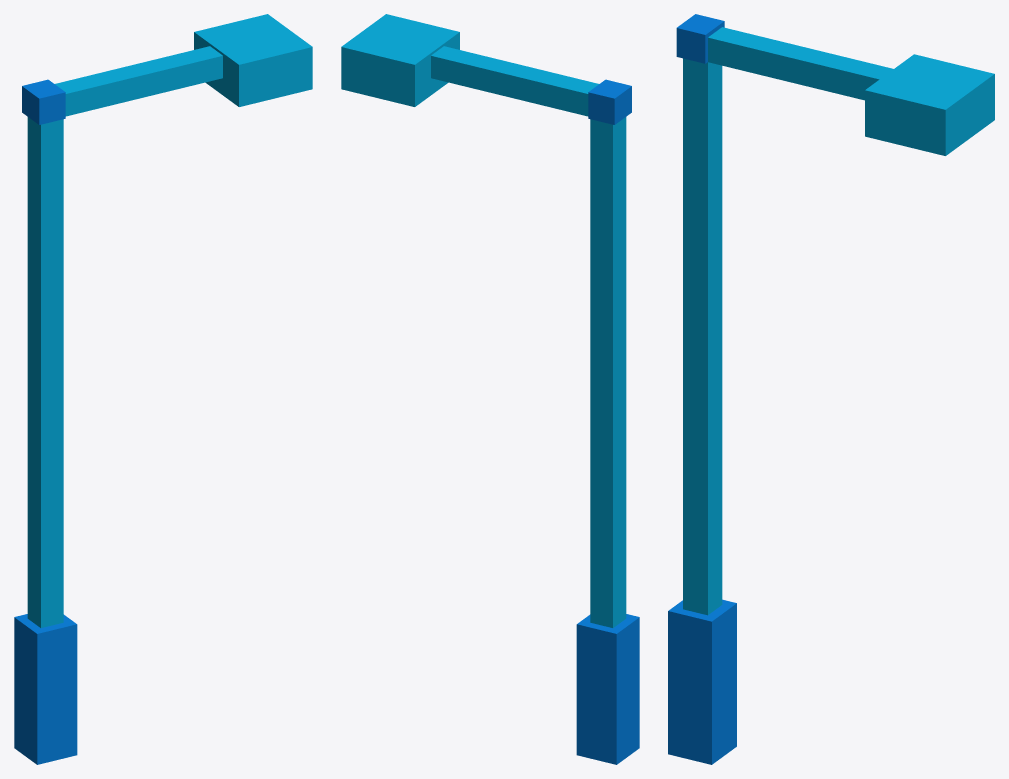
File: streetLight.fbx
The picture shows the model from 3 angles, left to right: view 1: azimuth 30°, elevation 25°; view 2: azimuth 150°, elevation 25°; view 3: azimuth 330°, elevation 25°; orthographic projection. The views are drawn at different scales.
Parts seen in each view (by area): view 1: pCube4; view 2: pCube4; view 3: pCube4.
Part boxes in pixels (box(x1,y1,x2,y2)): pCube4: box(14, 14, 312, 764); pCube4: box(341, 14, 639, 764); pCube4: box(668, 14, 994, 764).
Size of the model in its own units: 4.61e-05 by 0.00011 by 1.36e-05.
